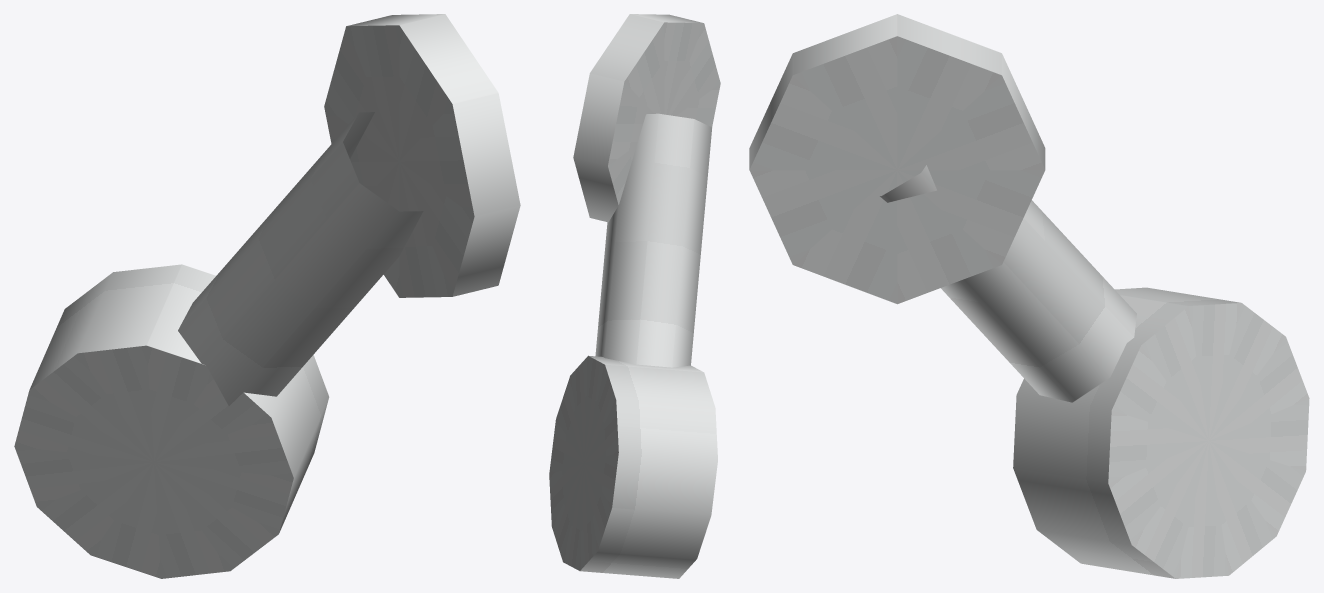
Rendered from nycsignalarm_stub_173.obj.
The picture shows the model from 3 angles, left to right: view 1: azimuth 30°, elevation 25°; view 2: azimuth 150°, elevation 25°; view 3: azimuth 270°, elevation 25°; orthographic projection. The views are drawn at different scales.
Parts seen in each view (by area): view 1: nycsignalarm_stub_173; view 2: nycsignalarm_stub_173; view 3: nycsignalarm_stub_173.
Part boxes in pixels (<box>): nycsignalarm_stub_173: <box>14,14,520,578</box>; nycsignalarm_stub_173: <box>549,14,720,578</box>; nycsignalarm_stub_173: <box>749,14,1309,578</box>.
Size of the model in its own units: 0.3703 by 0.7868 by 0.6624.
